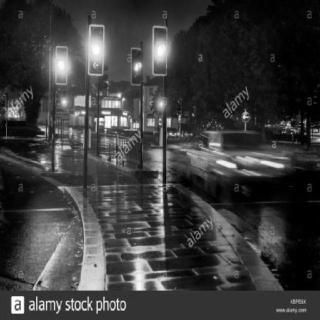other: (145, 36, 173, 72)
